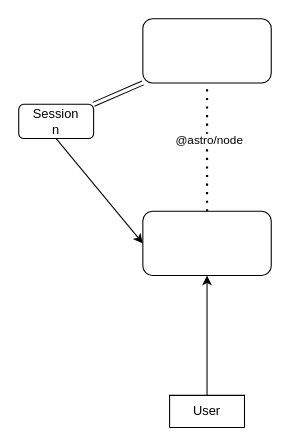
The diagram is 290 pixels wide and 446 high, and some of its shapes have lost their labels. Here are the shapes that lost their labels. From the top down, the centre of each, then its label:
At point (206, 50): "WebRTC".
At point (206, 243): "Astro SSR".
